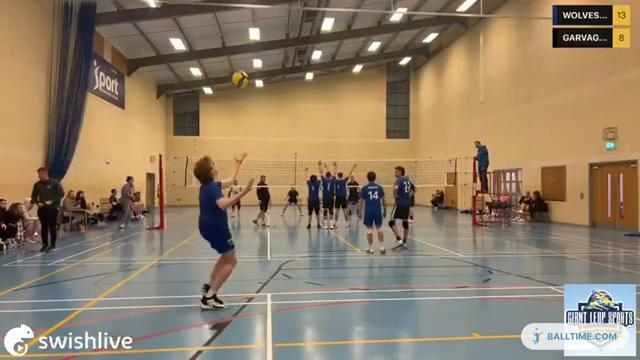Player: (359, 171, 385, 253), (389, 166, 410, 249), (334, 164, 356, 226), (318, 161, 334, 229), (253, 175, 270, 226), (307, 175, 320, 228), (281, 185, 302, 215), (347, 176, 360, 218), (409, 180, 416, 222), (230, 201, 240, 216)
Serve: (184, 146, 260, 314)
ball: (230, 71, 250, 90)
